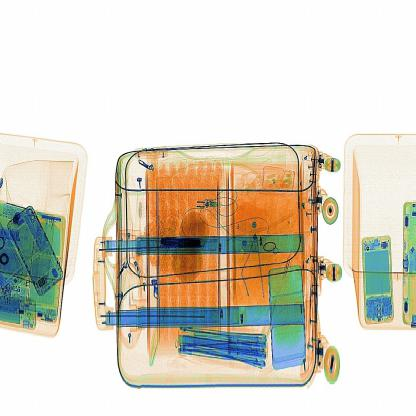scissors: (156, 220, 214, 264)
